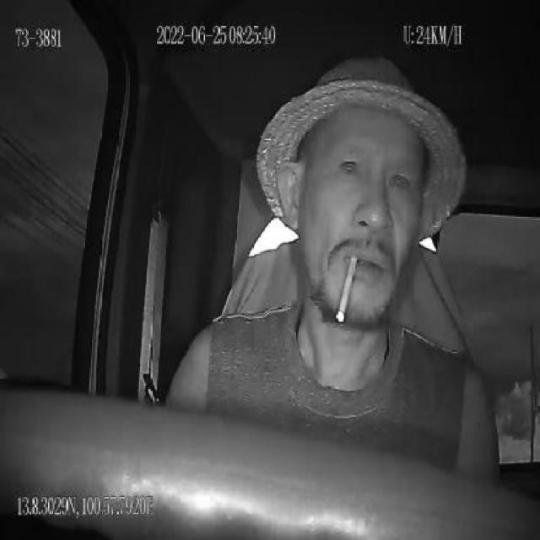smoking: (336, 254, 358, 325)
